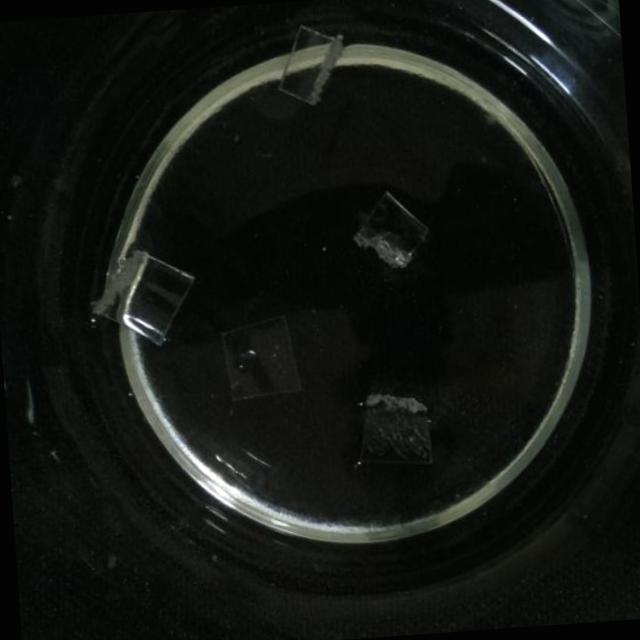fiber: (82, 240, 200, 351), (220, 310, 306, 401), (271, 13, 349, 110), (348, 186, 432, 272), (357, 387, 438, 472)
